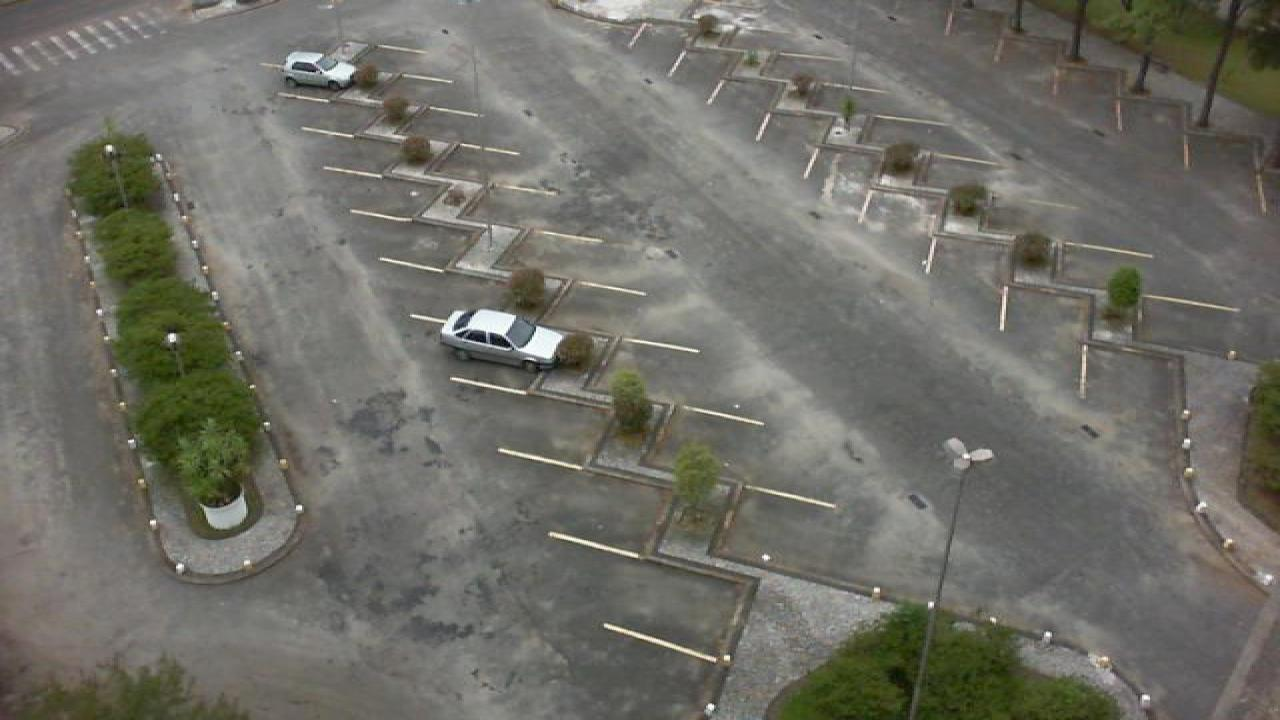Car: (438, 308, 568, 370), (282, 51, 358, 90)
